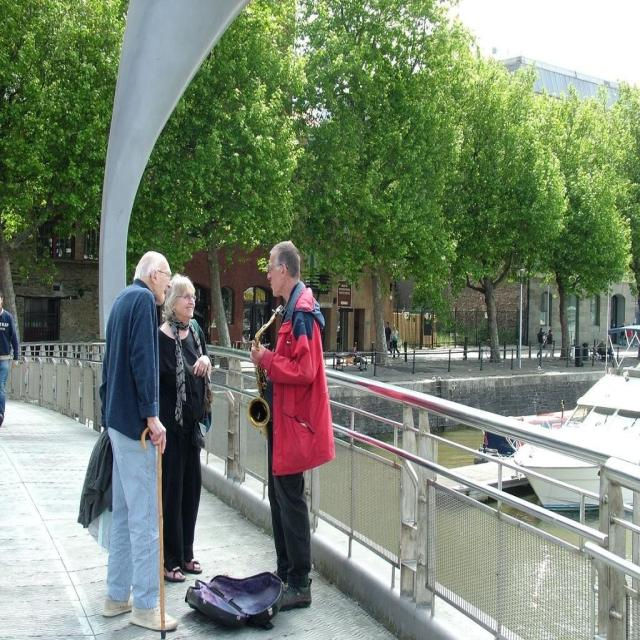saxophone: (246, 303, 284, 440)
